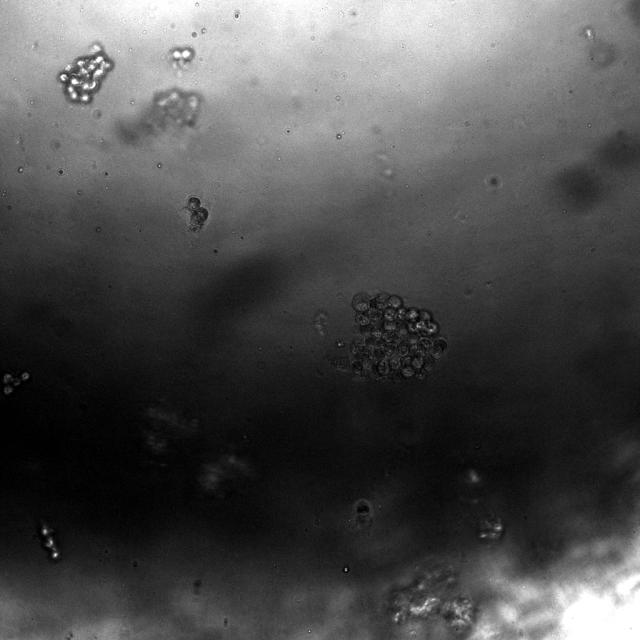organoid: (325, 292, 449, 385), (384, 558, 478, 636), (120, 88, 202, 144), (58, 44, 114, 104), (38, 522, 60, 561), (186, 196, 208, 232), (2, 371, 30, 396), (168, 46, 195, 71)
